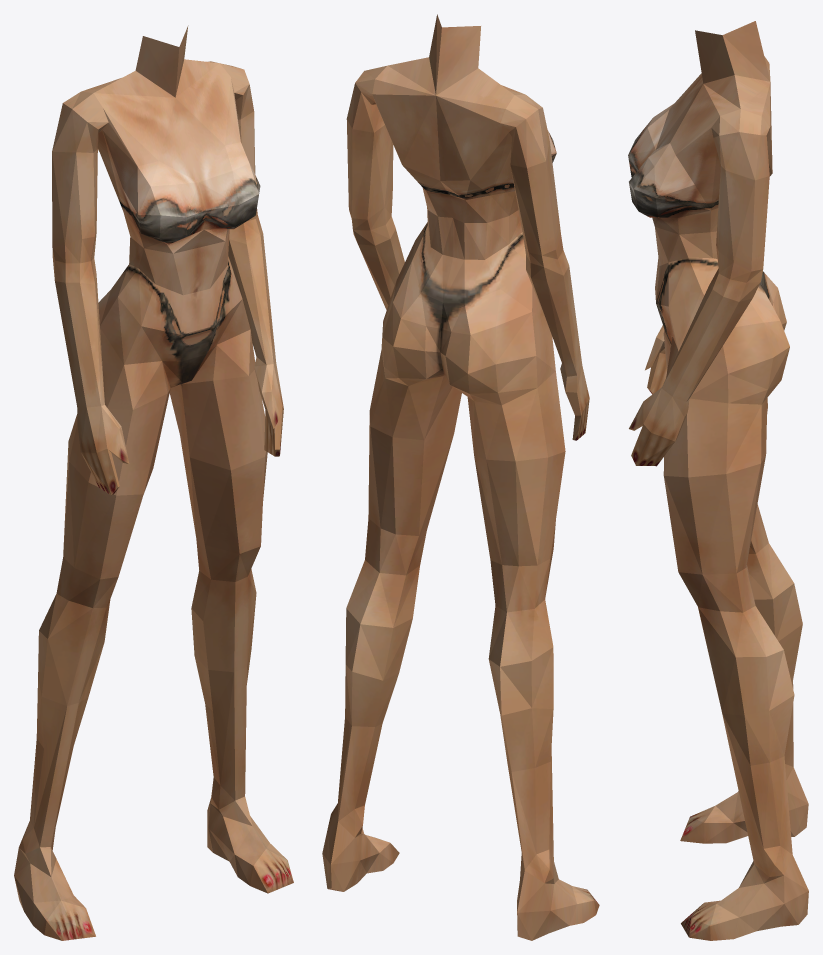
File: Bab_body_Naked0-Caj5wEzA.glb
3 renders of one model, left to right at view 1: azimuth 30°, elevation 25°; view 2: azimuth 150°, elevation 25°; view 3: azimuth 270°, elevation 25°, orthographic.
Visible parts, largest first — view 1: zm_Babe1; view 2: zm_Babe1; view 3: zm_Babe1.
Boxes of the visible parts, x1,y1,x2,y2 form: zm_Babe1: (14, 25, 293, 940); zm_Babe1: (322, 14, 599, 940); zm_Babe1: (628, 21, 808, 940).
Size of the model in its own units: 0.4609 by 1.56 by 0.2956.
1 material, 1 textured.
